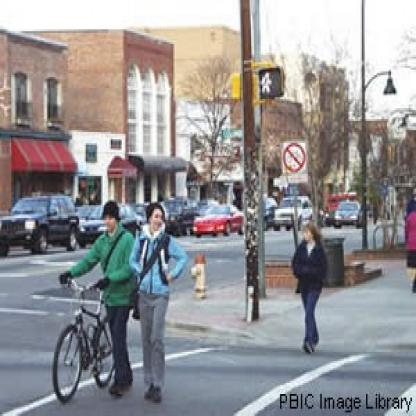Walk: (258, 70, 284, 96)
